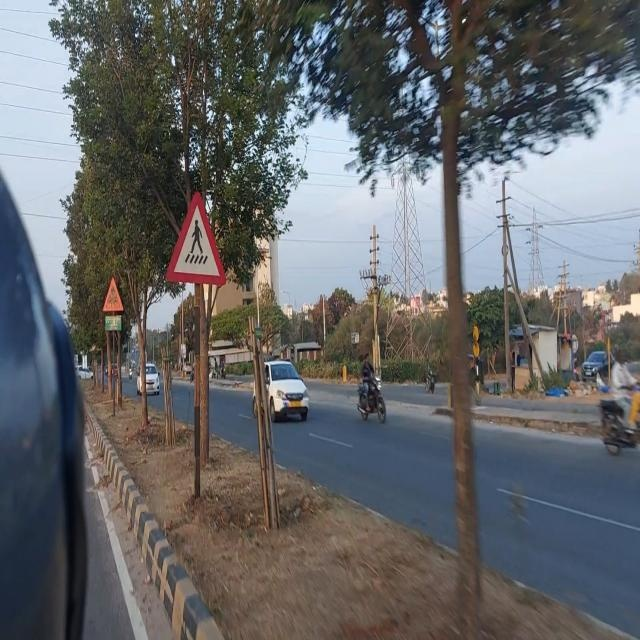bien_nguy_hiem: (164, 186, 227, 283), (100, 272, 124, 314)
